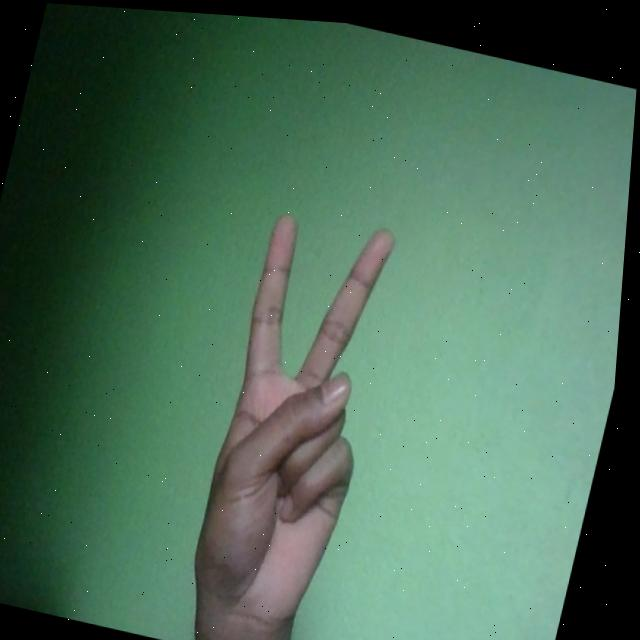Peace: (187, 194, 413, 640)
